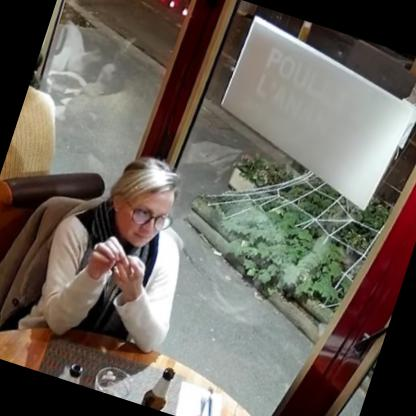Human Body: (6, 126, 224, 379)
